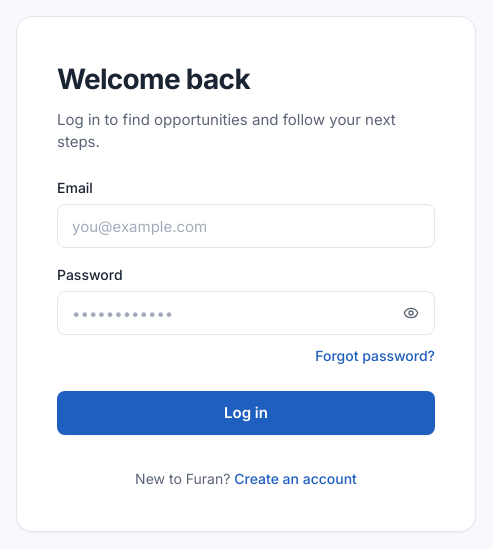
Test case: Authentication Screens Suite › Login Page › toggles password visibility when the eye button is clicked
Click the button named "Show password". click: [411, 313]
box: [399,301,423,325]
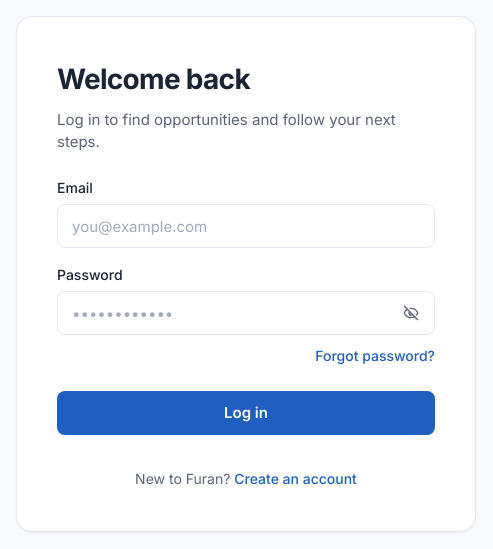
Expected: the button named "Hide password" is shown, [399,301,423,325]
